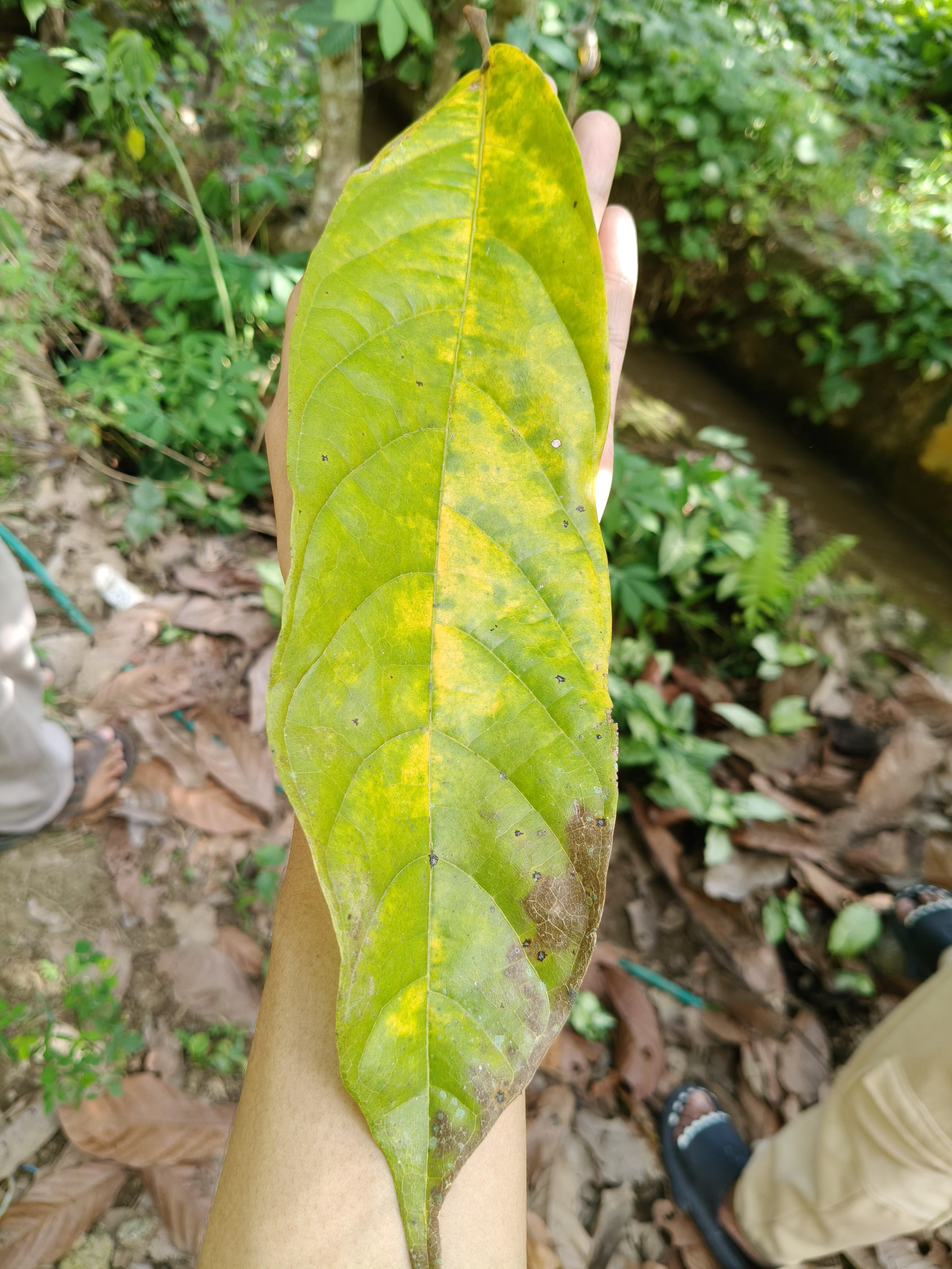deficiencia_potasio: (270, 46, 623, 1269)
